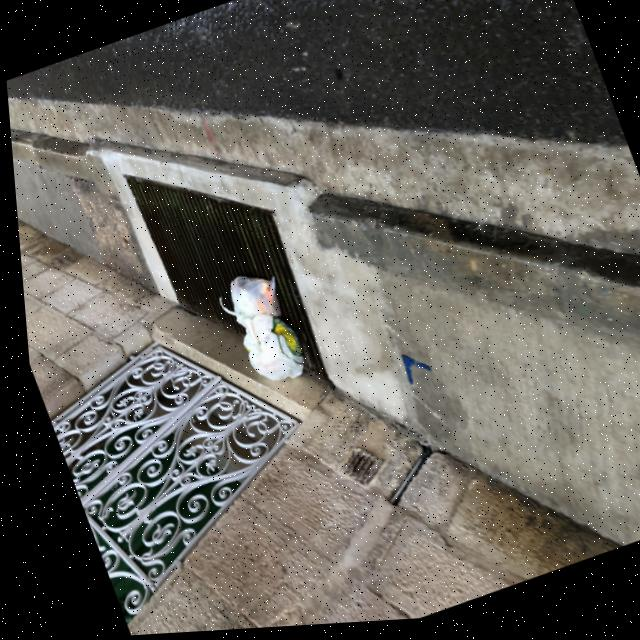Organic Waste -White Bag-: (230, 306, 305, 394), (205, 266, 287, 340)
